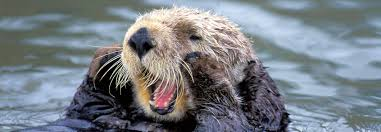otter: (60, 1, 313, 130)
